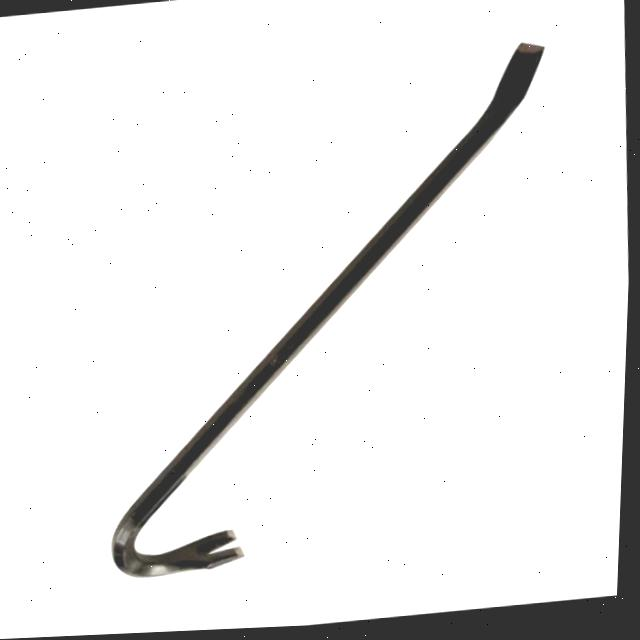crow bar: (82, 40, 582, 595)
